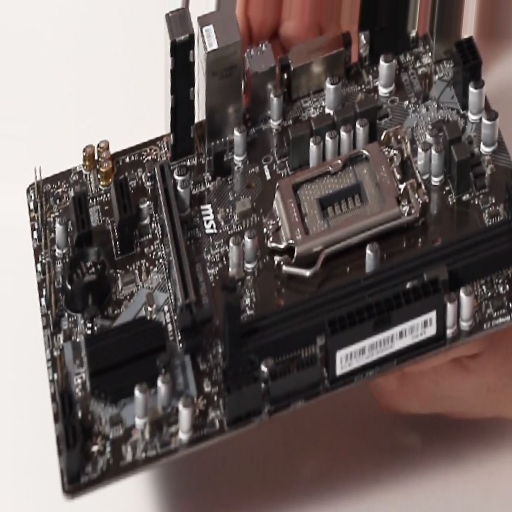CPU: (263, 127, 420, 252)
GPU: (154, 157, 210, 346)
MOTHERBOARD: (27, 33, 512, 494)
RAM: (221, 220, 512, 383)
